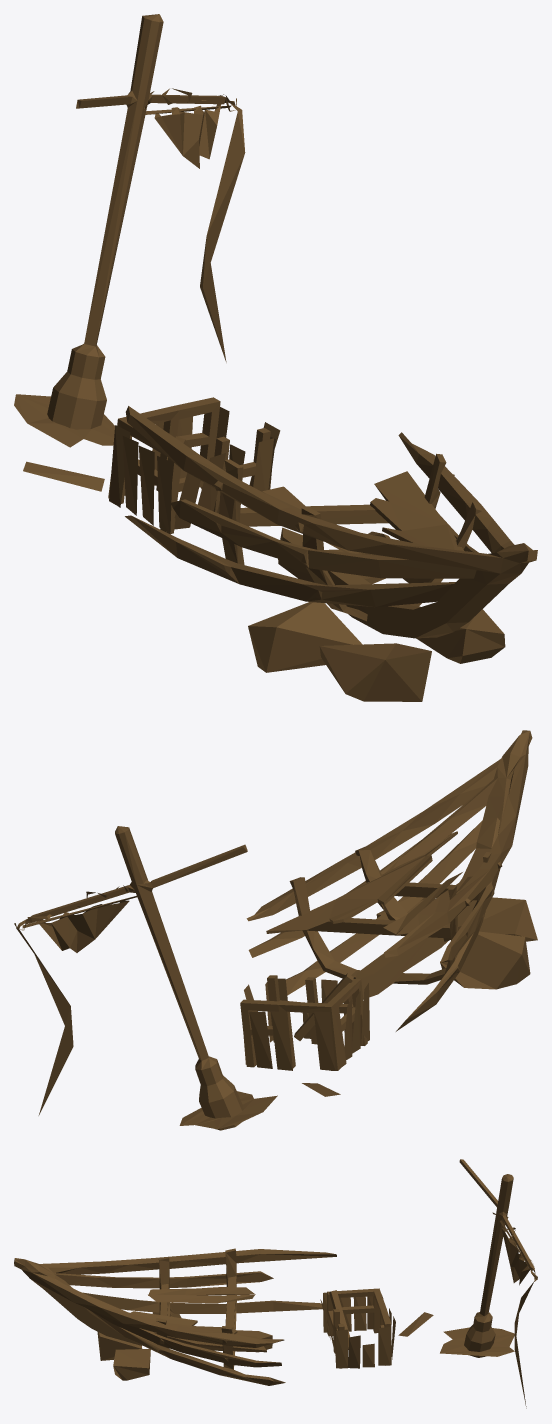
The model's file is beach-wreck.lod1.glb.
3 views of the same model, one above another, from view 1: azimuth 30°, elevation 25°; view 2: azimuth 150°, elevation 25°; view 3: azimuth 270°, elevation 25° (orthographic). The views are drawn at different scales.
Visible parts, largest first — view 1: Cube.002_0; view 2: Cube.002_0; view 3: Cube.002_0.
Boxes of the visible parts, <box> form: Cube.002_0: <box>14,14,537,701</box>; Cube.002_0: <box>14,730,537,1130</box>; Cube.002_0: <box>14,1159,537,1408</box>.
Bounding box in the file's own units: 4.47 × 5.13 × 11.47.
